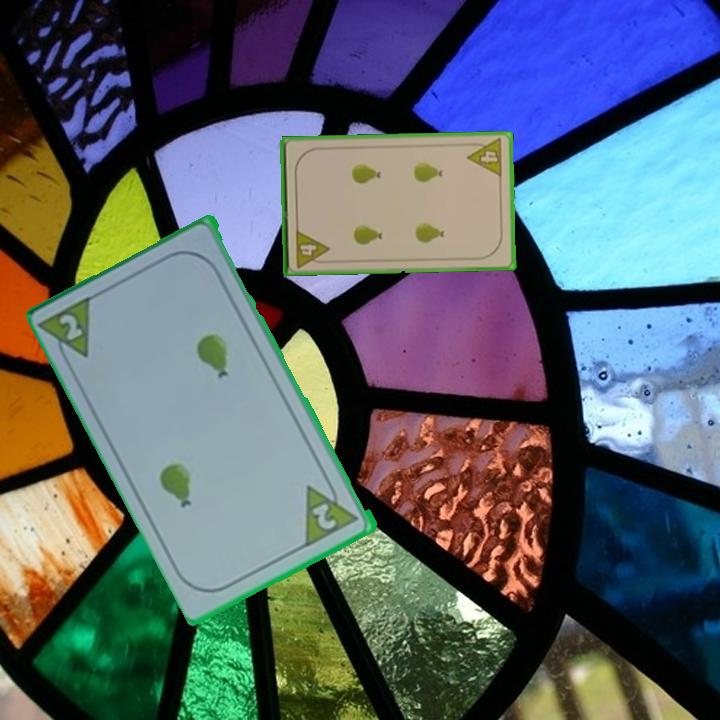2p: (301, 473, 363, 549), (56, 310, 87, 344)
4p: (464, 135, 506, 179), (292, 226, 332, 270)
